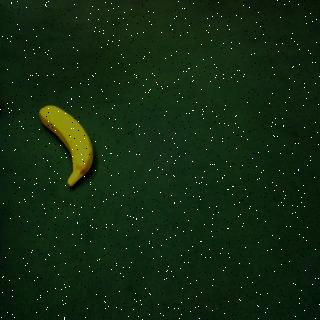banana: (36, 94, 98, 198)
